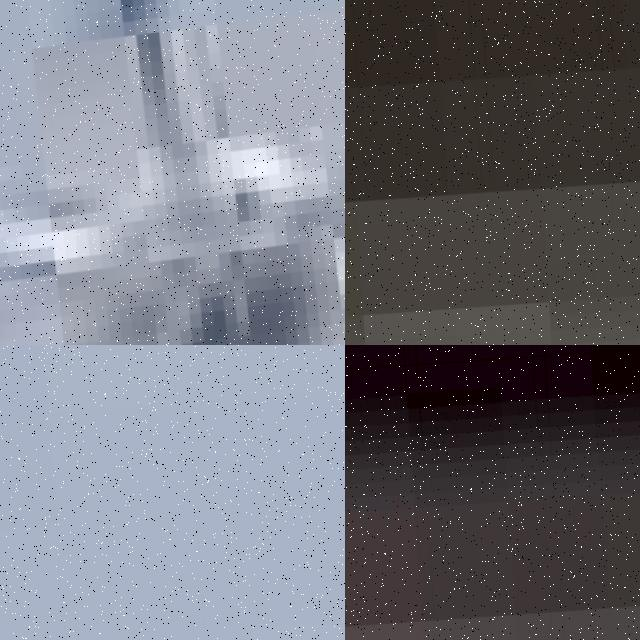drone: (0, 0, 345, 345)
